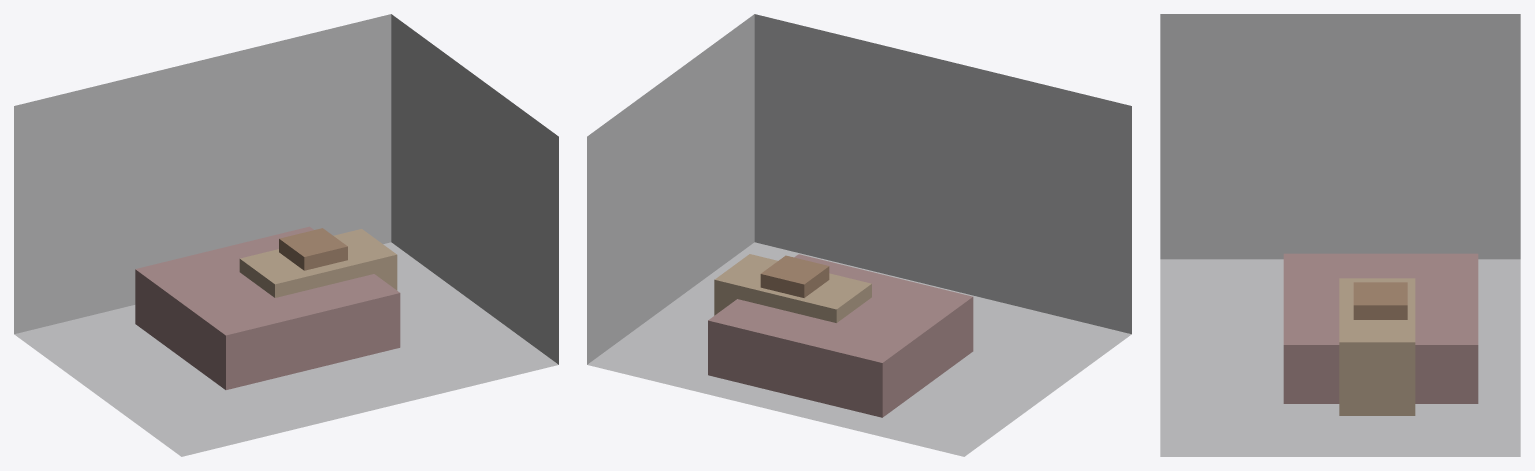
File: current_layout.glb
3 renders of one model, left to right at view 1: azimuth 30°, elevation 25°; view 2: azimuth 150°, elevation 25°; view 3: azimuth 270°, elevation 25°, orthographic. The views are drawn at different scales.
Parts seen in each view (by area): view 1: room, bed, desk, chair; view 2: room, bed, desk, chair; view 3: room, bed, desk, chair.
Boxes of the visible parts, x1=… form: room: x1=14, y1=14, x2=558, y2=456; bed: x1=135, y1=226, x2=400, y2=389; desk: x1=239, y1=229, x2=397, y2=297; chair: x1=279, y1=228, x2=347, y2=270; room: x1=587, y1=14, x2=1131, y2=456; bed: x1=708, y1=254, x2=973, y2=417; desk: x1=714, y1=254, x2=871, y2=322; chair: x1=760, y1=255, x2=829, y2=297; room: x1=1160, y1=14, x2=1520, y2=456; bed: x1=1283, y1=253, x2=1478, y2=403; desk: x1=1339, y1=278, x2=1415, y2=415; chair: x1=1353, y1=282, x2=1407, y2=319.
Bounding box in the file's own units: 4.32 × 2.5 × 3.33.
